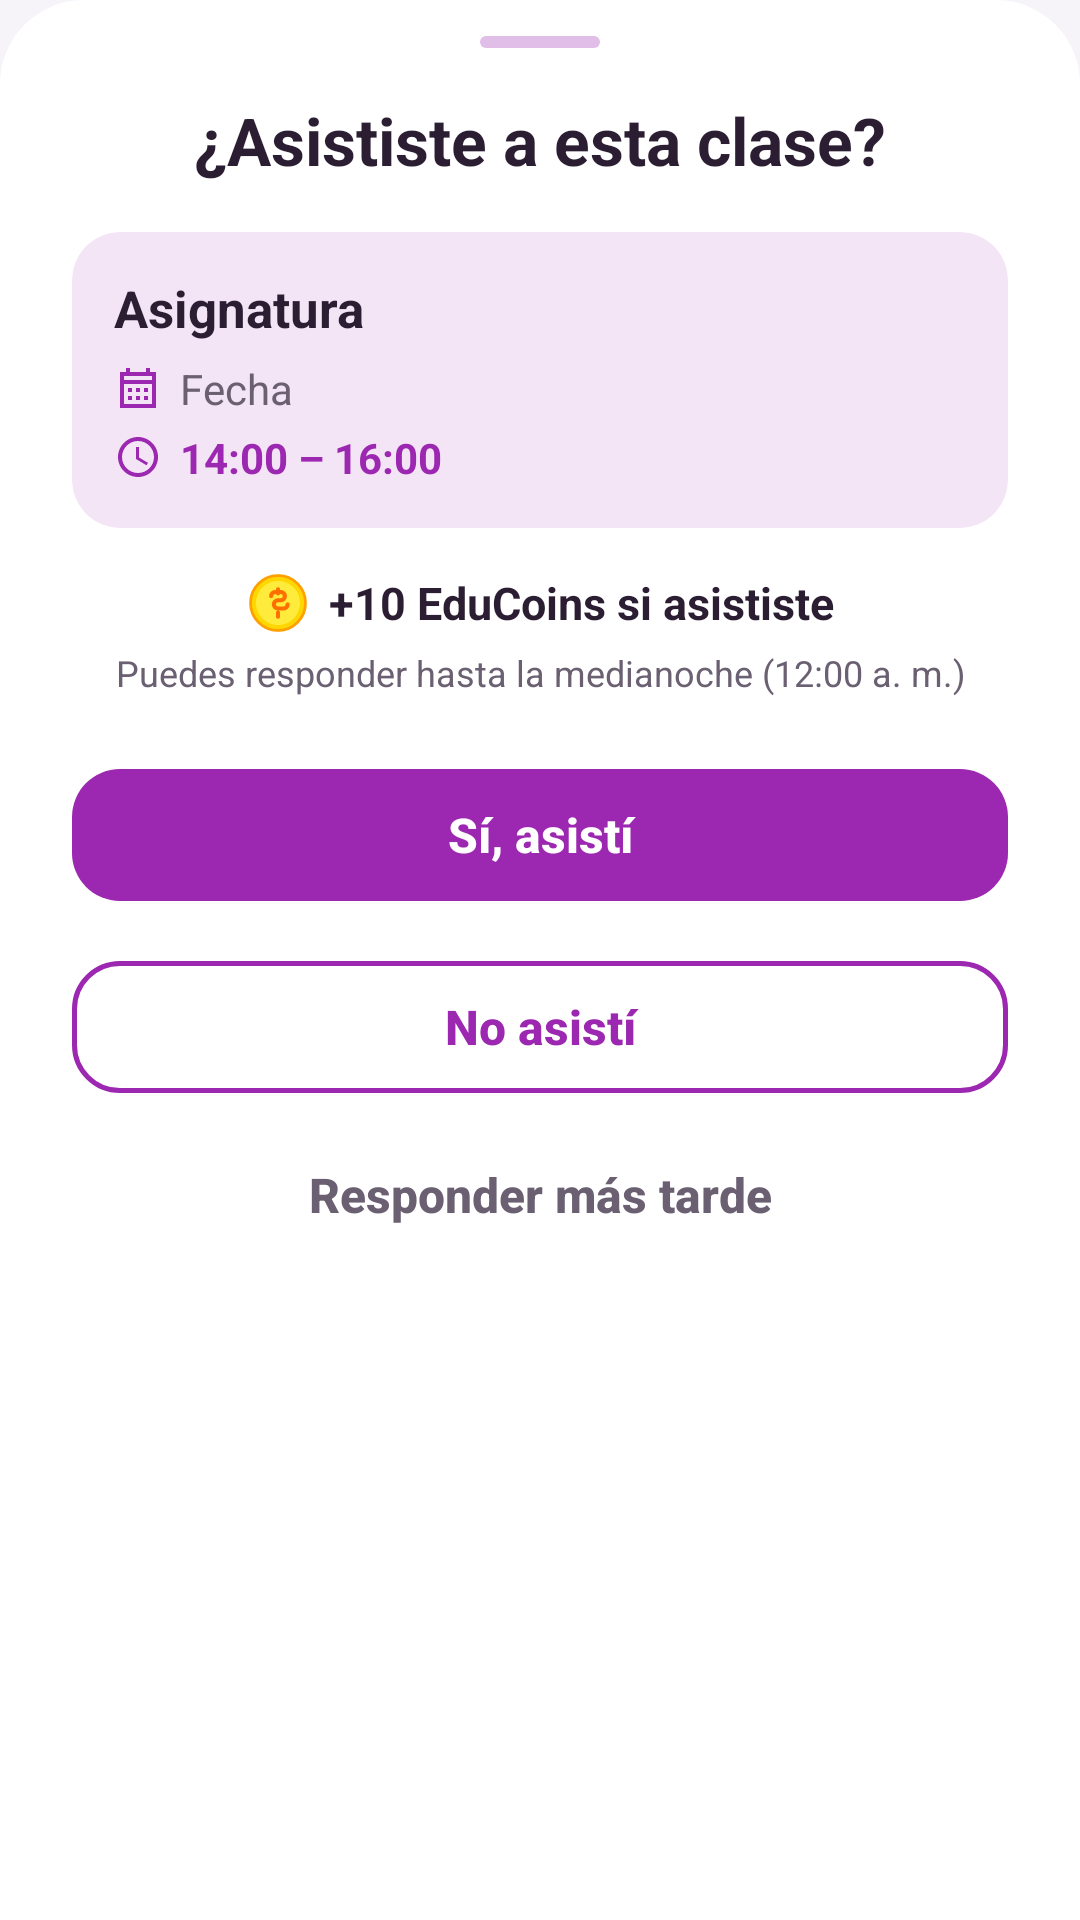

Locate icon controls on the screen. Image size 1080×1920, boxes as (x1, y1, x2, y2).
calendar month: (120, 368, 156, 408)
clock: (118, 437, 158, 477)
